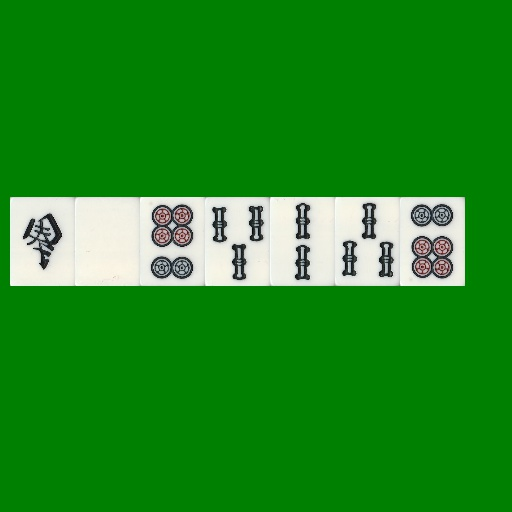2s: (270, 197, 335, 286)
3s: (205, 197, 270, 286), (335, 197, 400, 286)
6p: (140, 197, 205, 286), (400, 197, 465, 286)
south: (10, 197, 75, 286)
white: (75, 197, 140, 286)
